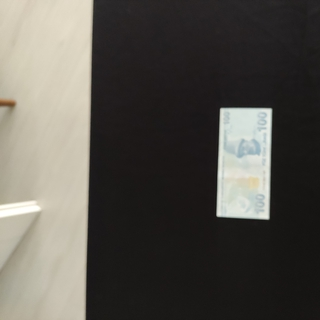100TLBack: (216, 107, 273, 220)
